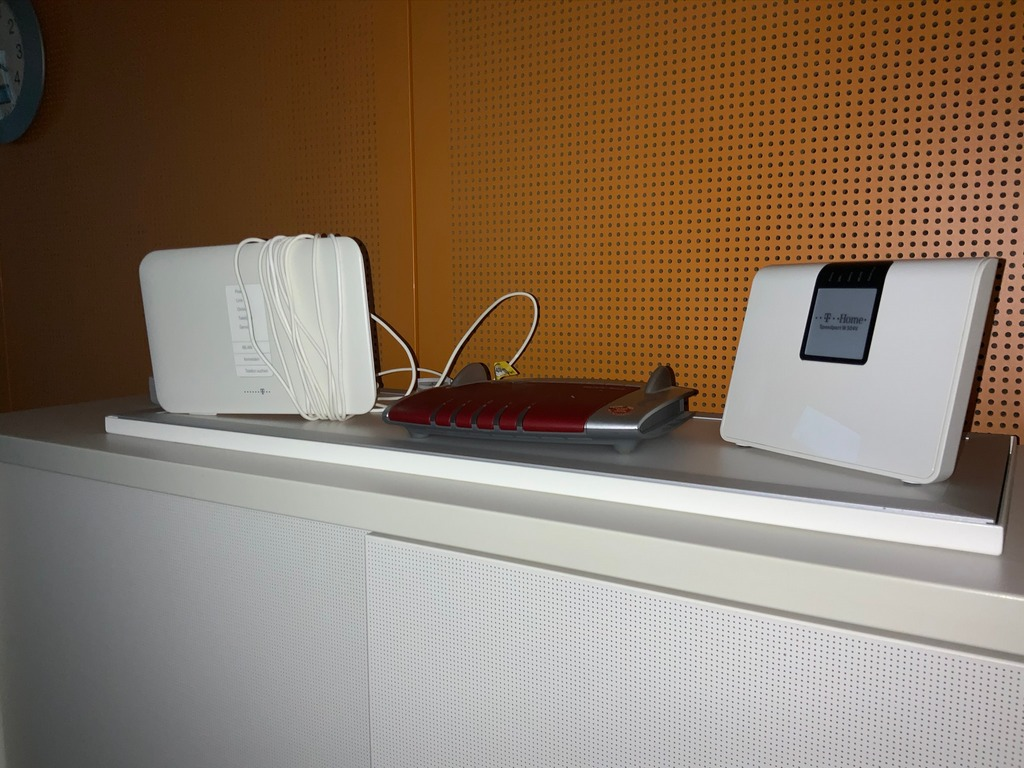Router2: (715, 254, 1003, 489)
router: (139, 242, 373, 418)
router3: (385, 367, 706, 447)
